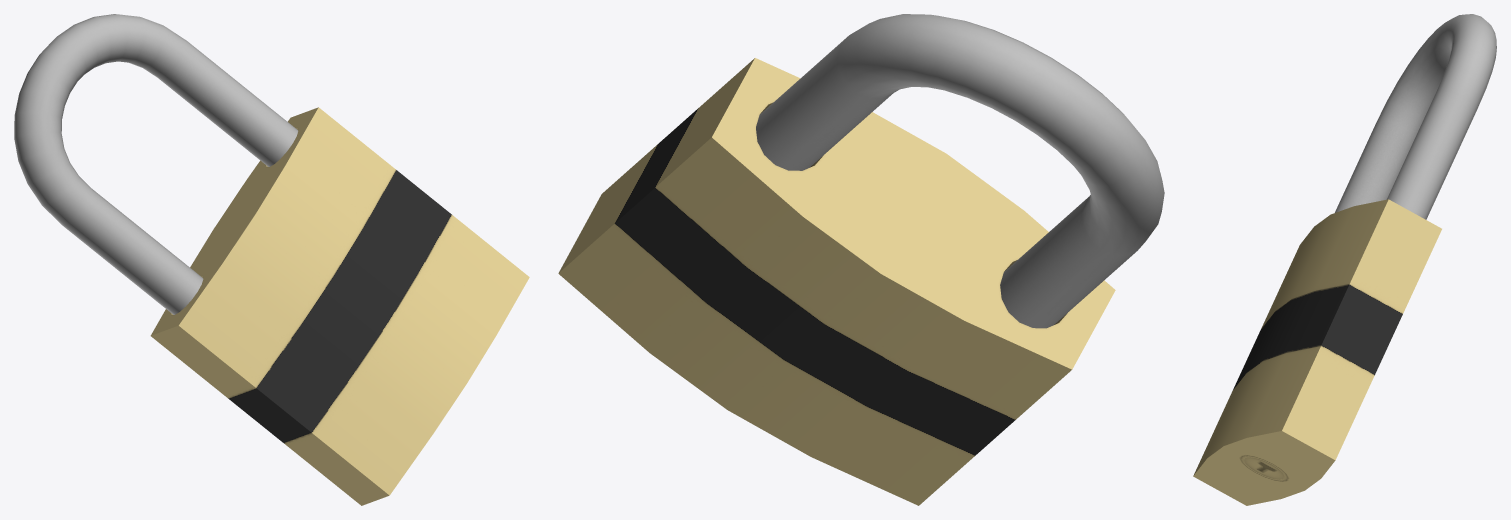
File: padlock.glb
3 views of the same model, side by side, from view 1: azimuth 30°, elevation 25°; view 2: azimuth 150°, elevation 25°; view 3: azimuth 270°, elevation 25° (orthographic). The views are drawn at different scales.
Visible parts, largest first — view 1: padlock_low_1, padlockup_low_0; view 2: padlock_low_1, padlockup_low_0; view 3: padlock_low_1, padlockup_low_0.
Part boxes in pixels (x1,y1,x2,y2): padlock_low_1: (150,107,529,505); padlockup_low_0: (14,14,298,314); padlock_low_1: (558,58,1115,505); padlockup_low_0: (756,14,1164,328); padlock_low_1: (1193,199,1441,505); padlockup_low_0: (1335,14,1496,219).
Size of the model in its own units: 0.4785 by 0.4583 by 0.304.
1 material, 1 textured.
